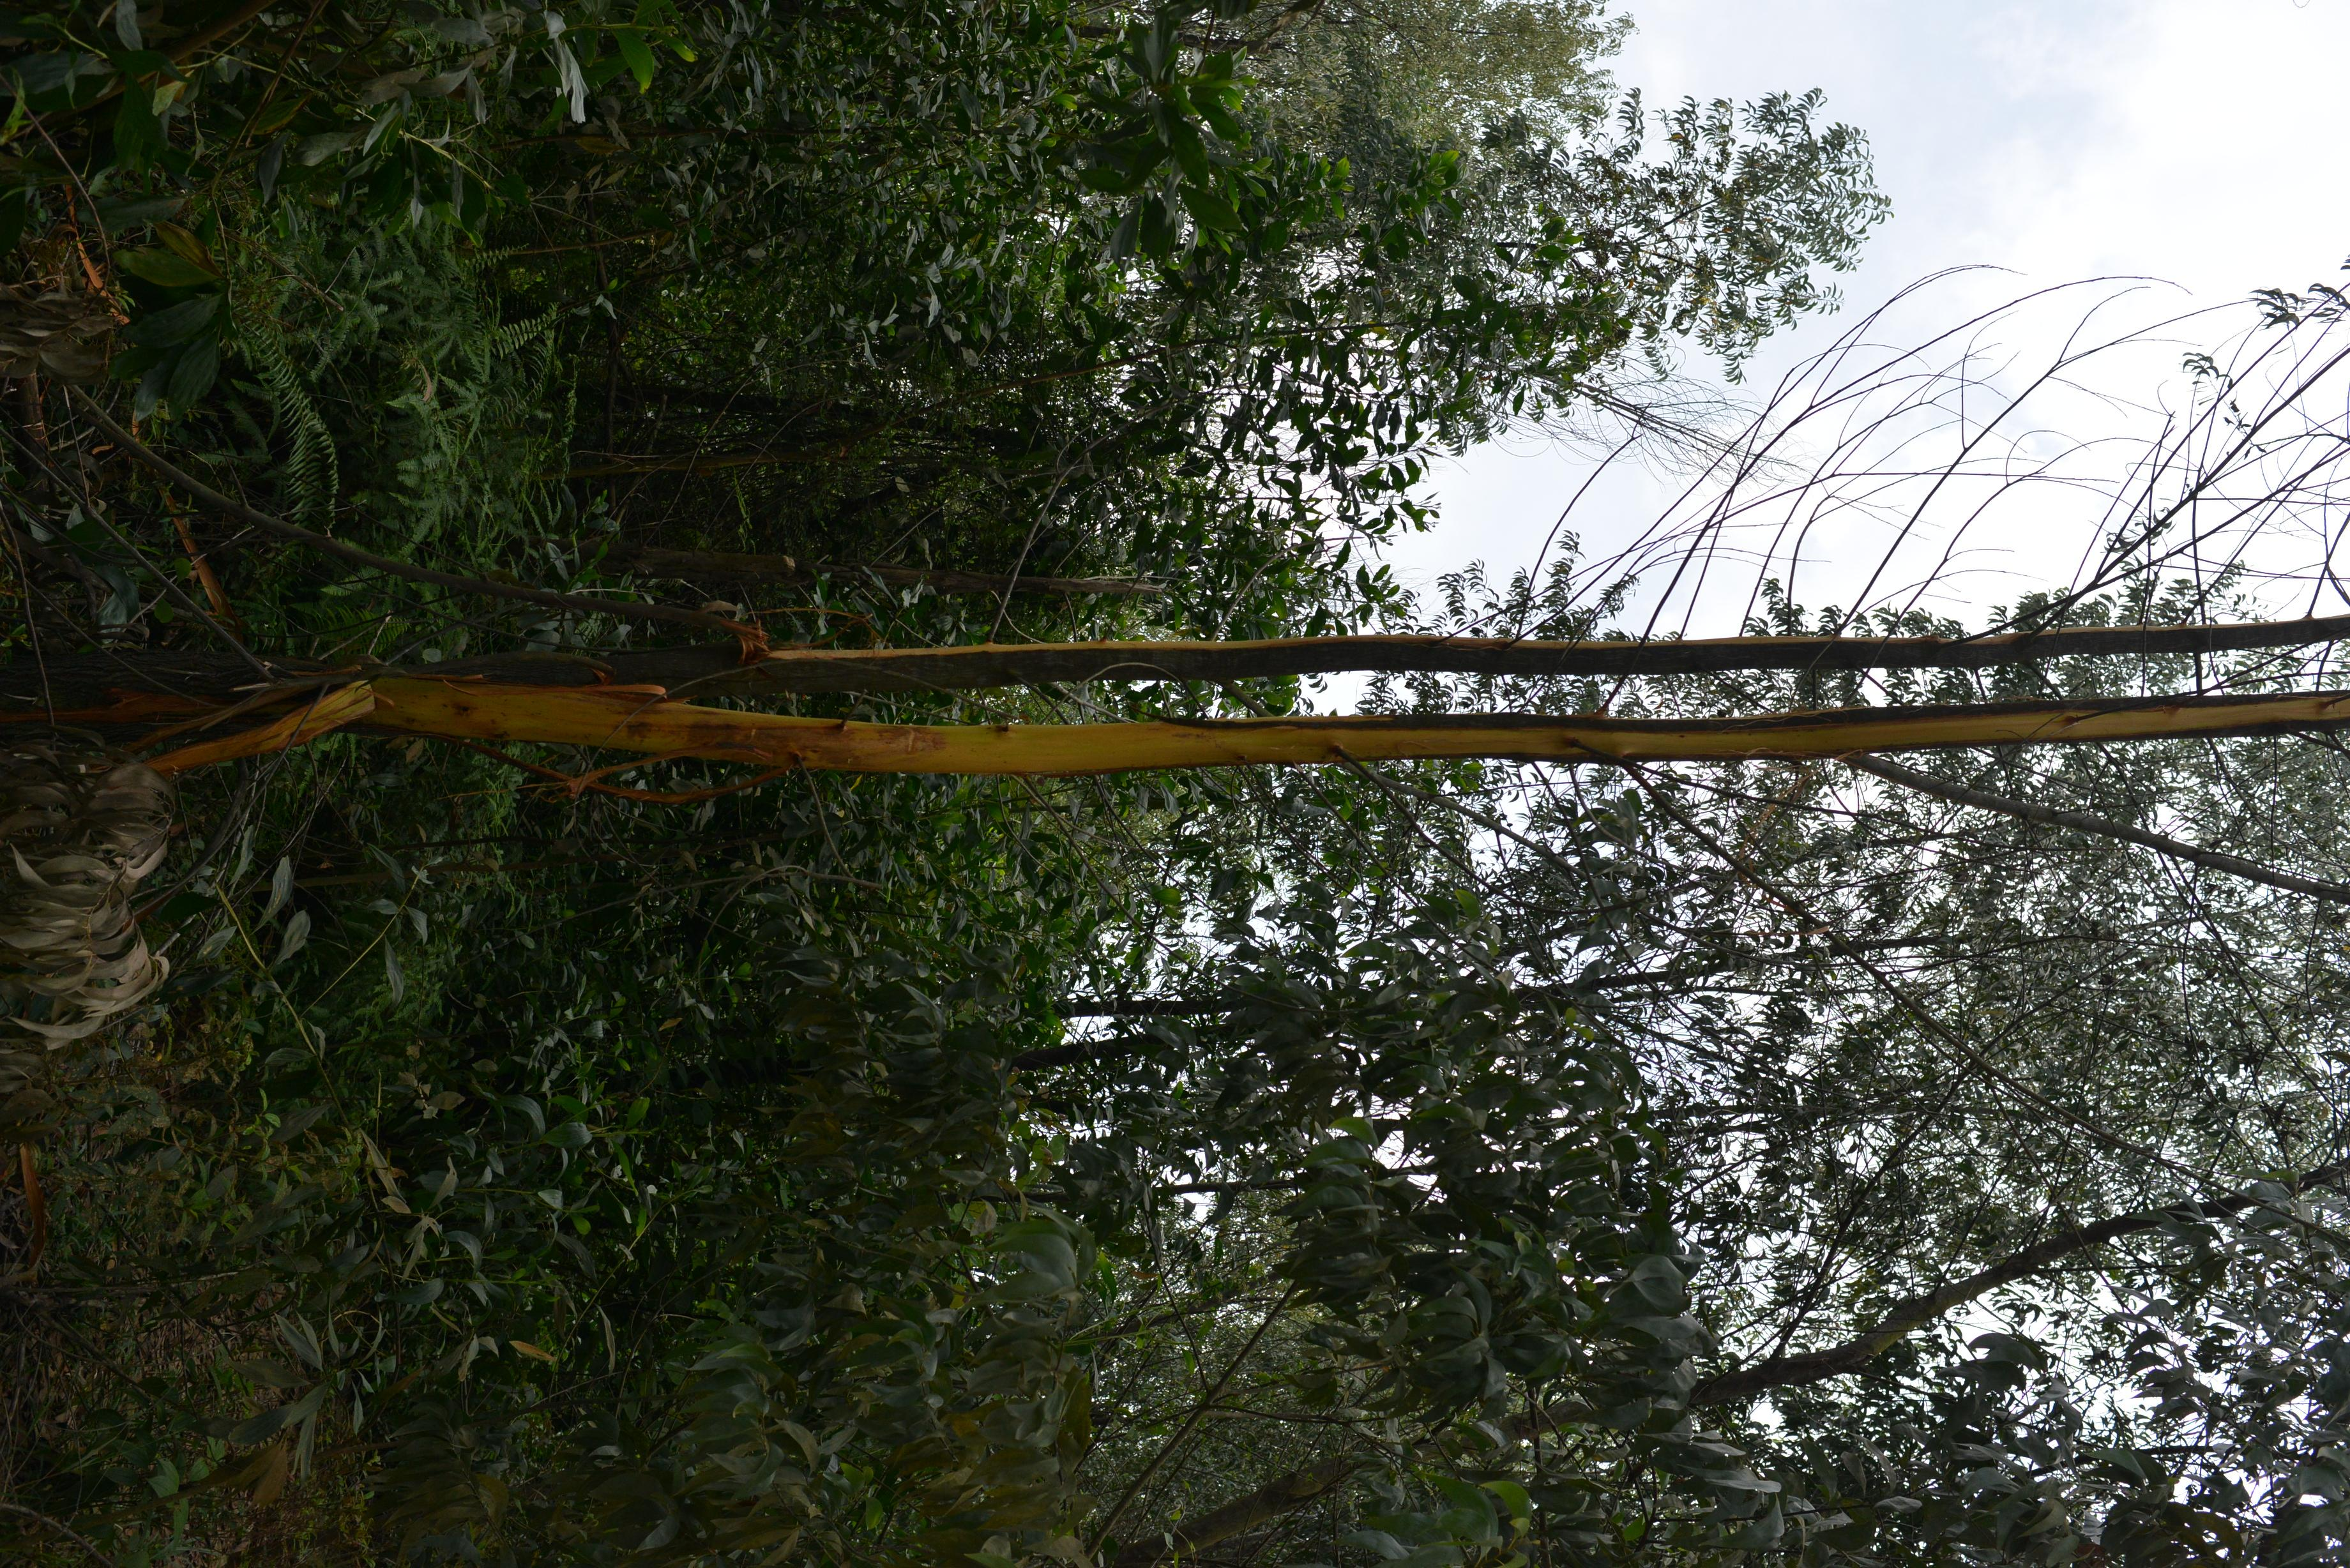Mammals Attack: (332, 607, 2350, 782)
